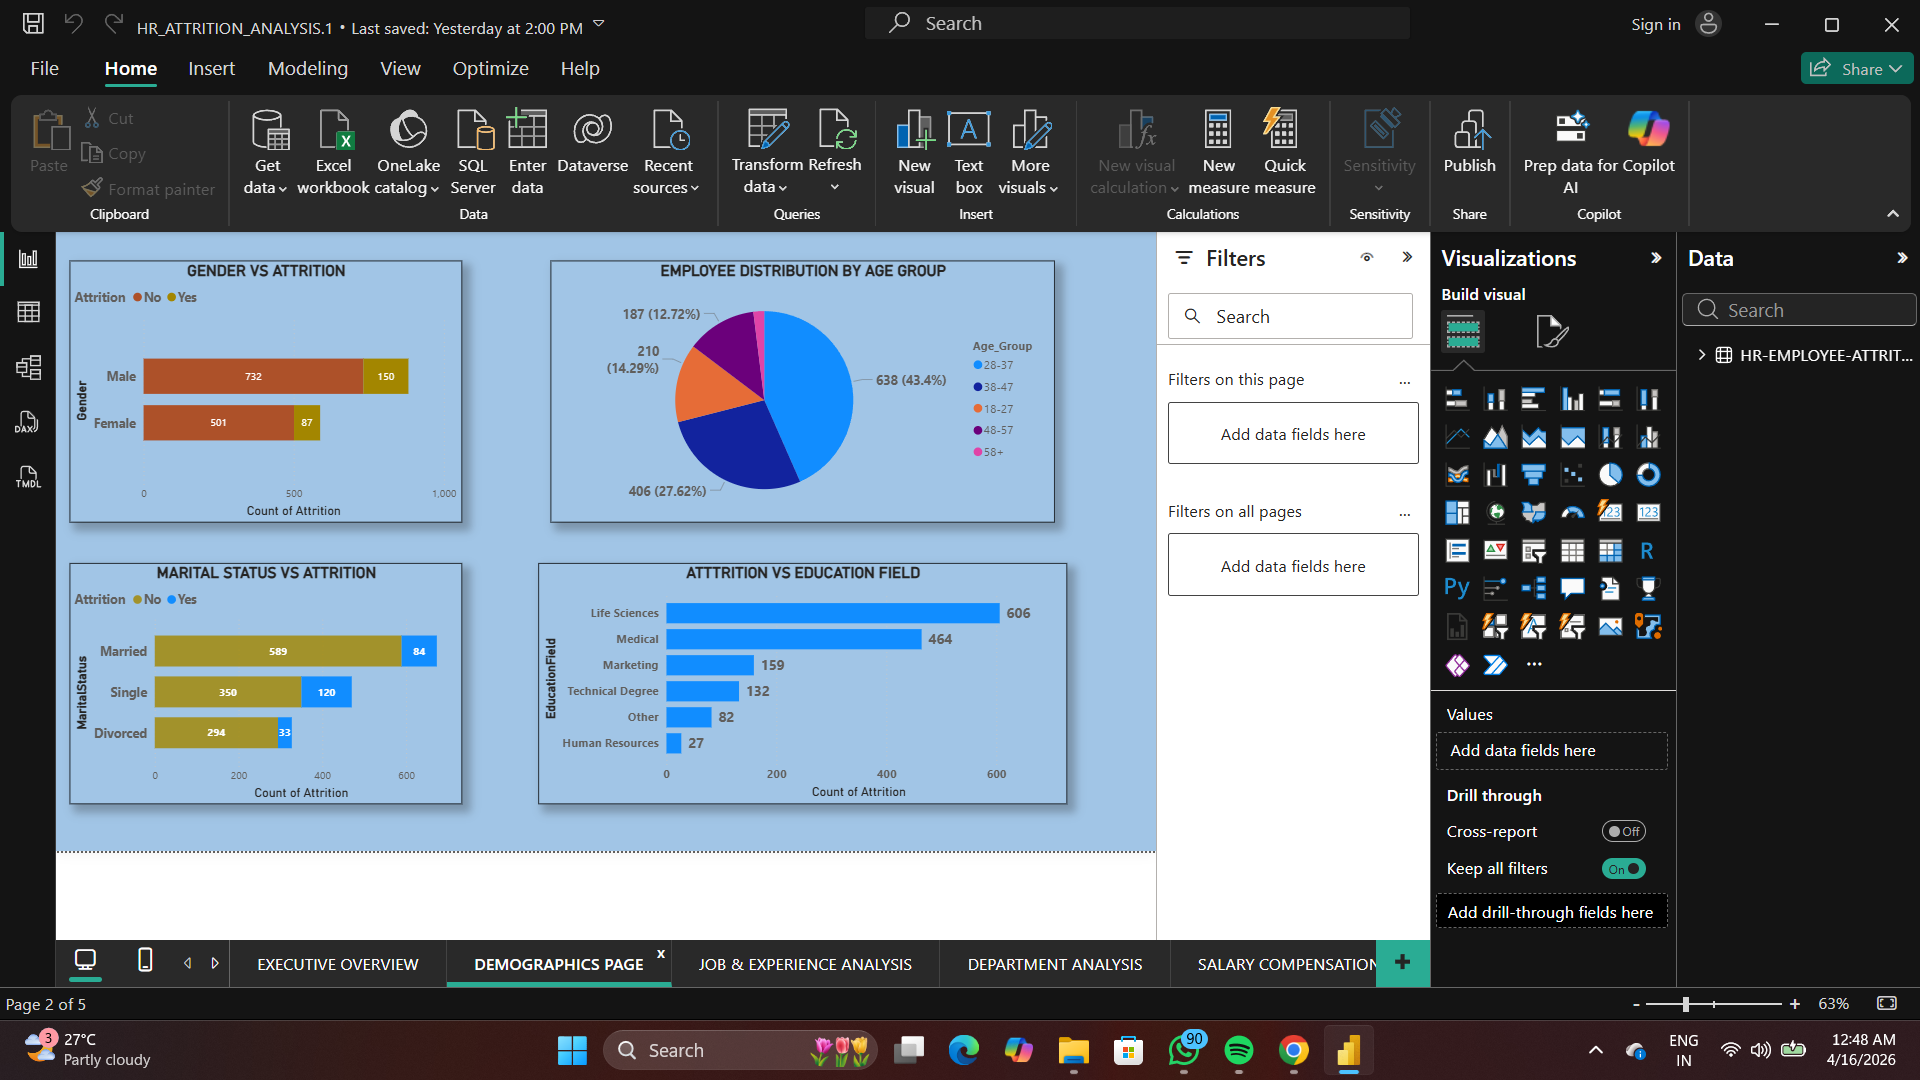

What the dashboard file says about the page in this screenshot:
{"tool":"powerbi","page":{"name":"DEMOGRAPHICS PAGE","canvas":[1280,720],"ordinal":1},"visuals":[{"type":"barChart","title":"GENDER VS ATTRITION","fields":{"Category":["HR-EMPLOYEE-ATTRITION.Gender"],"Series":["HR-EMPLOYEE-ATTRITION.Attrition"],"Y":["CountNonNull(HR-EMPLOYEE-ATTRITION.Attrition)"]},"box":[15.8,33.3,456.4,304.3],"z":0},{"type":"pieChart","title":"EMPLOYEE DISTRIBUTION BY AGE GROUP","fields":{"Category":["HR-EMPLOYEE-ATTRITION.Age_Group"],"Y":["Sum(HR-EMPLOYEE-ATTRITION.EmployeeCount)"]},"box":[575.3,33.3,586.4,304.3],"z":1000},{"type":"barChart","title":"MARITAL STATUS VS ATTRITION","fields":{"Category":["HR-EMPLOYEE-ATTRITION.MaritalStatus"],"Series":["HR-EMPLOYEE-ATTRITION.Attrition"],"Y":["CountNonNull(HR-EMPLOYEE-ATTRITION.Attrition)"]},"box":[15.8,385.1,456.4,280.5],"z":2000},{"type":"clusteredBarChart","title":"ATTTRITION VS EDUCATION FIELD","fields":{"Category":["HR-EMPLOYEE-ATTRITION.EducationField"],"Y":["CountNonNull(HR-EMPLOYEE-ATTRITION.Attrition)"]},"box":[561,385.1,614.9,280.5],"z":3000}]}

Visuals, with their boxes on the page's 1280x720 design canvas (x1, y1, x2, y2). These are canvas units, not pixel positions in the 1920x1080 screenshot, which may show the page scaled, cropped or inside an application window:
"GENDER VS ATTRITION" barChart: 16,33,472,338
"EMPLOYEE DISTRIBUTION BY AGE GROUP" pieChart: 575,33,1162,338
"MARITAL STATUS VS ATTRITION" barChart: 16,385,472,666
"ATTTRITION VS EDUCATION FIELD" clusteredBarChart: 561,385,1176,666
